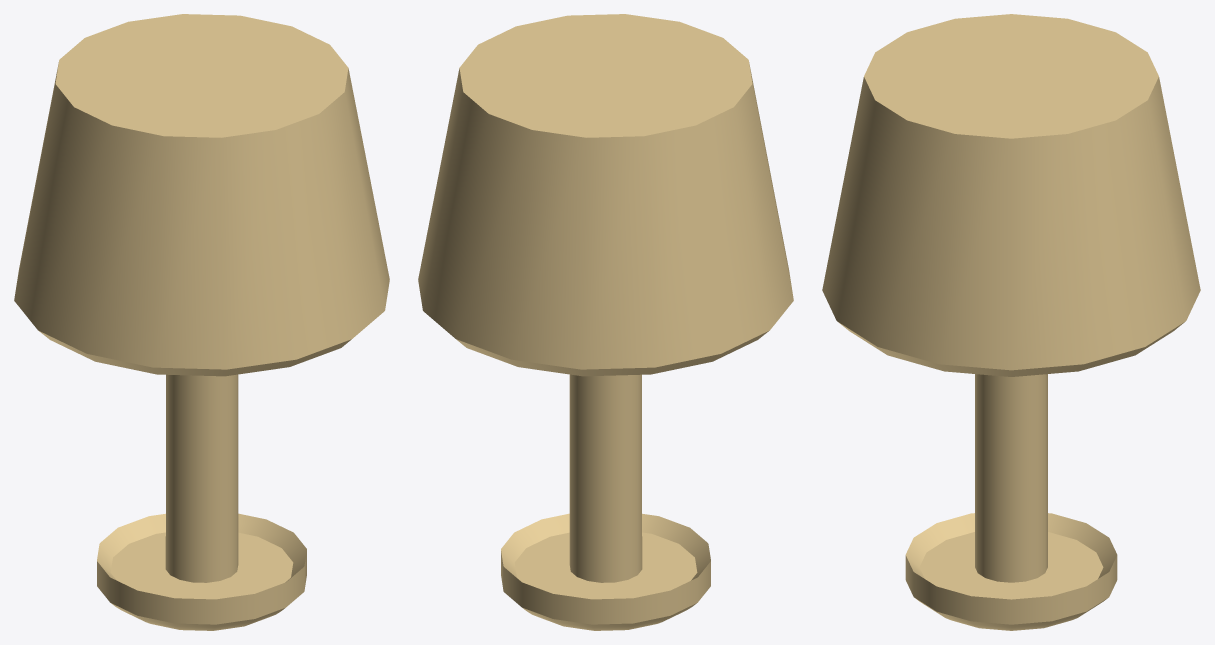
Rendered from Lamp.FBX.
3 views of the same model, side by side, from view 1: azimuth 30°, elevation 25°; view 2: azimuth 150°, elevation 25°; view 3: azimuth 270°, elevation 25° (orthographic).
Visible parts, largest first — view 1: Line001; view 2: Line001; view 3: Line001.
Part boxes in pixels (bbox=[...]): Line001: bbox=[14, 14, 389, 630]; Line001: bbox=[418, 14, 793, 630]; Line001: bbox=[822, 14, 1200, 630].
Bounding box in the file's own units: 101 × 155 × 101.
